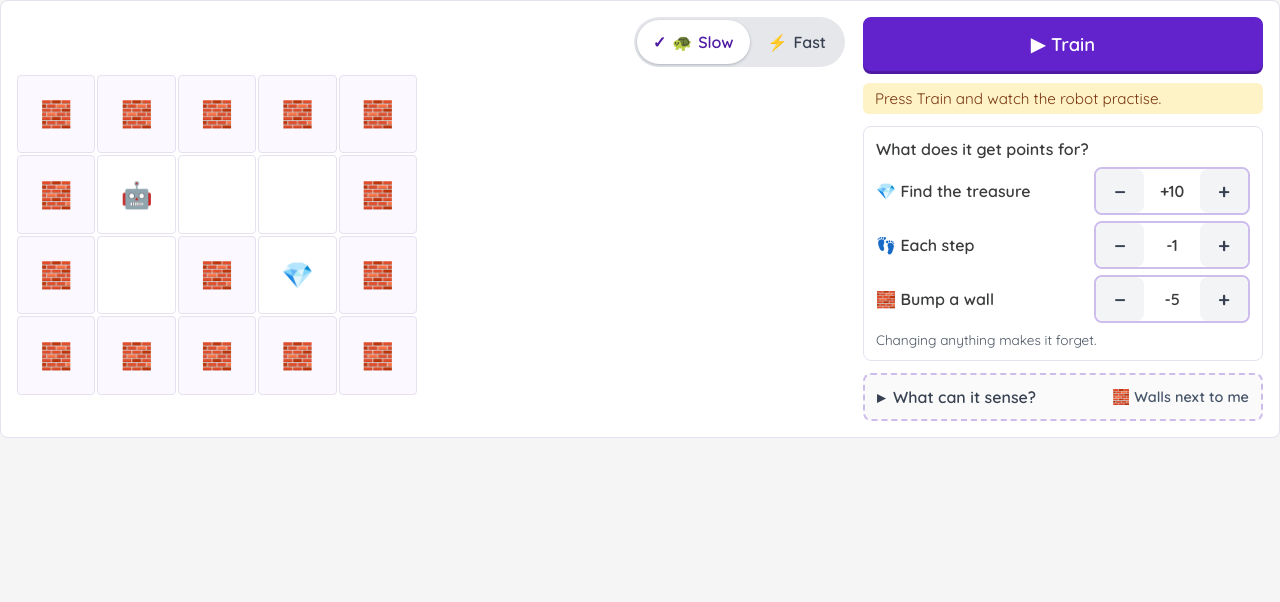
Test case: Game agent UI › offers senses in a closed fold with one compass
Click the button "▸ What can it sense? 🧱 Walls next to me" at (965, 397), box [865, 375, 1261, 419]
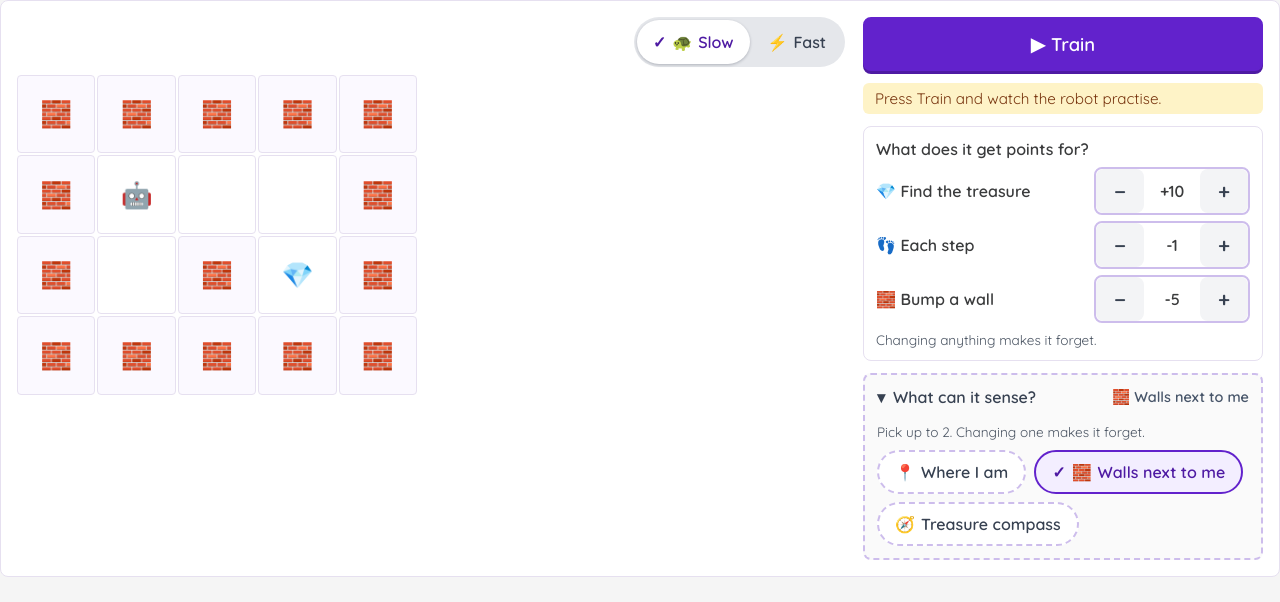
Now the button with test id "ga-sense-treasure_direction" shows "Treasure compass"
Click the button with test id "ga-sense-treasure_direction" at (978, 524), box [877, 502, 1079, 546]
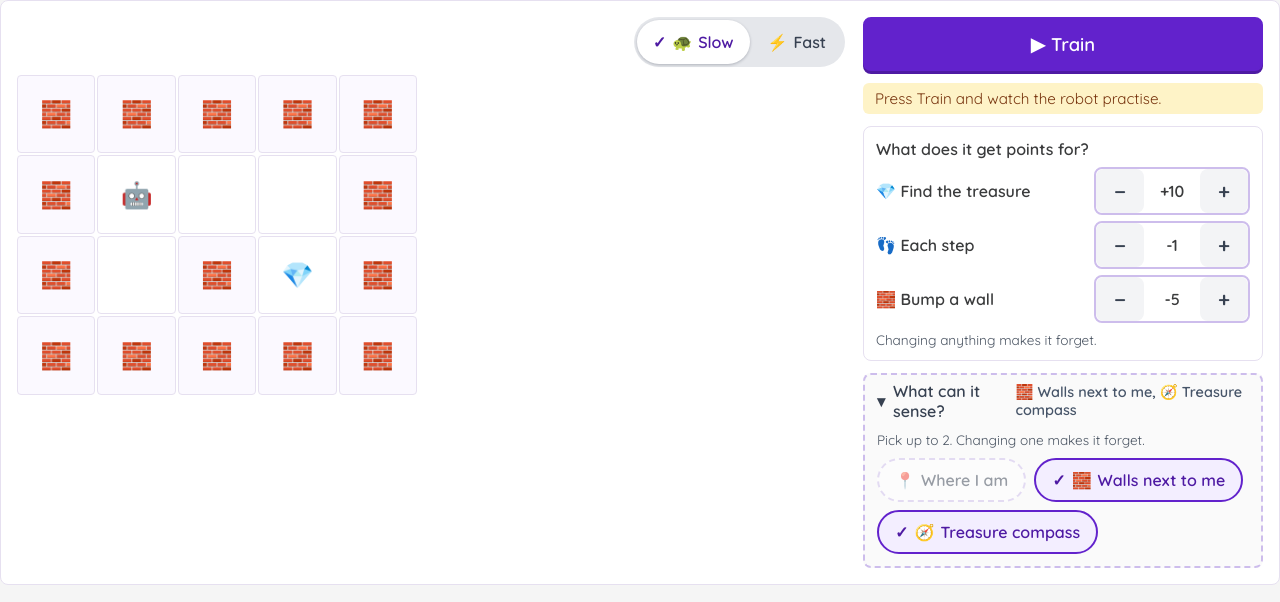
Now the button with test id "ga-sense-position" is disabled, box [877, 458, 1026, 502]
